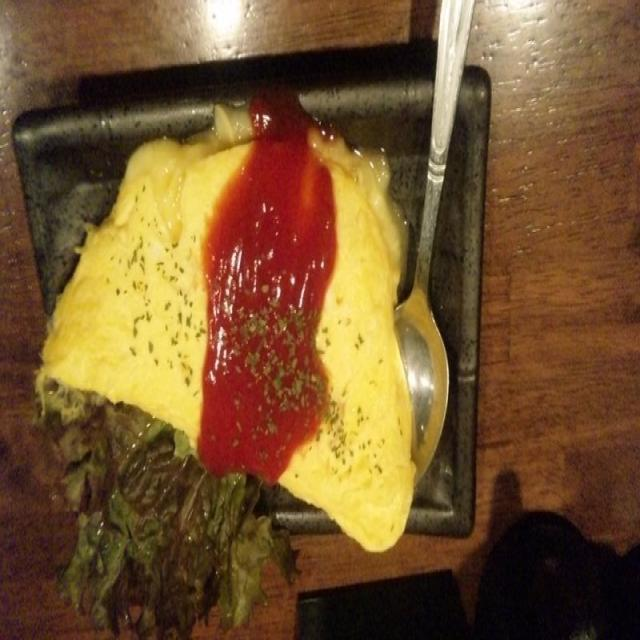Omelet: (48, 183, 418, 519)
